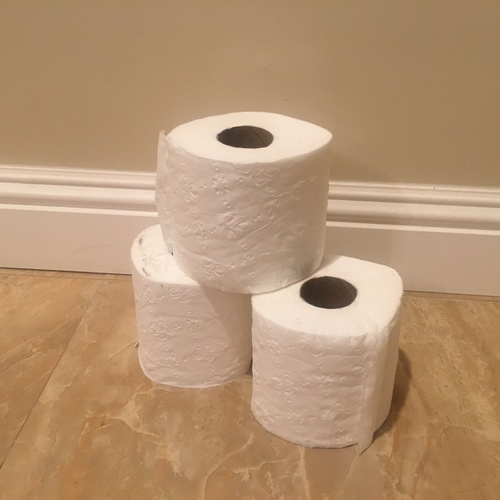roll: (156, 110, 332, 294), (247, 251, 404, 452), (132, 220, 254, 389)
